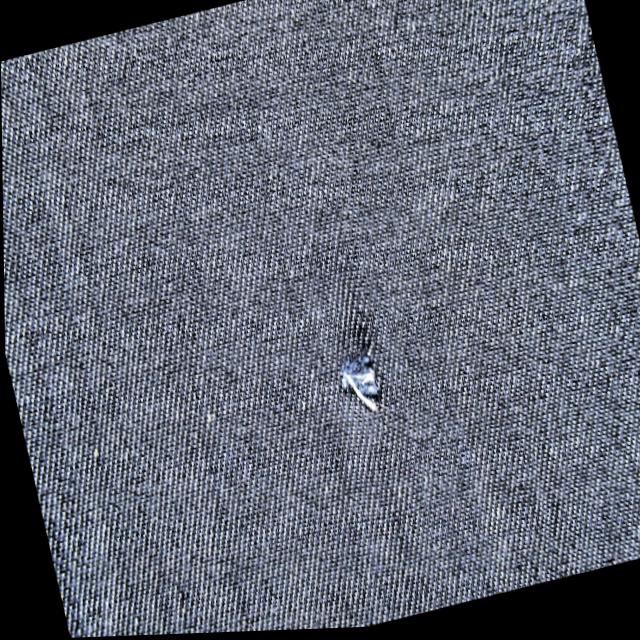Stitch: (316, 313, 401, 445)
